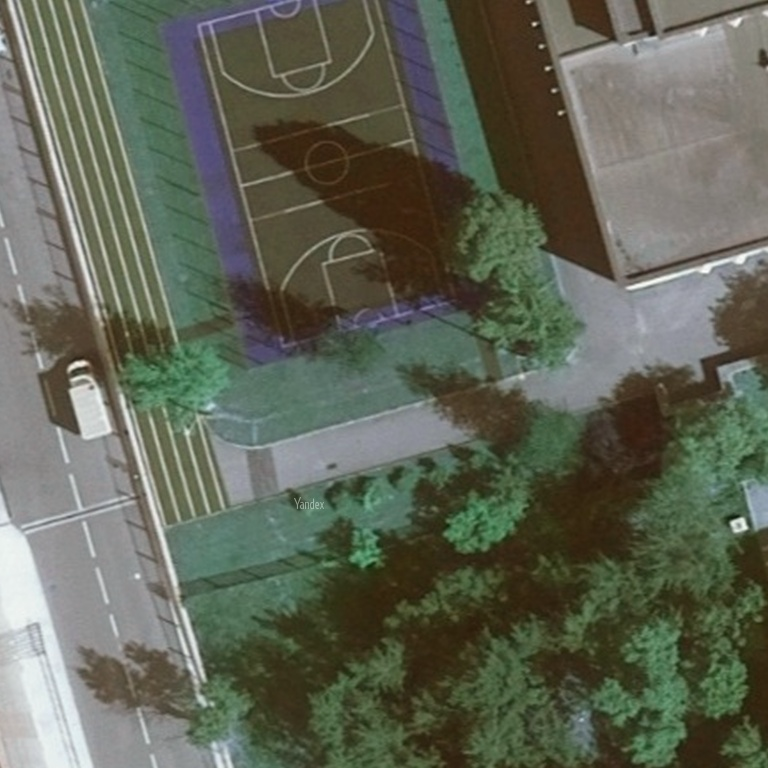basket_court: (190, 2, 481, 361)
